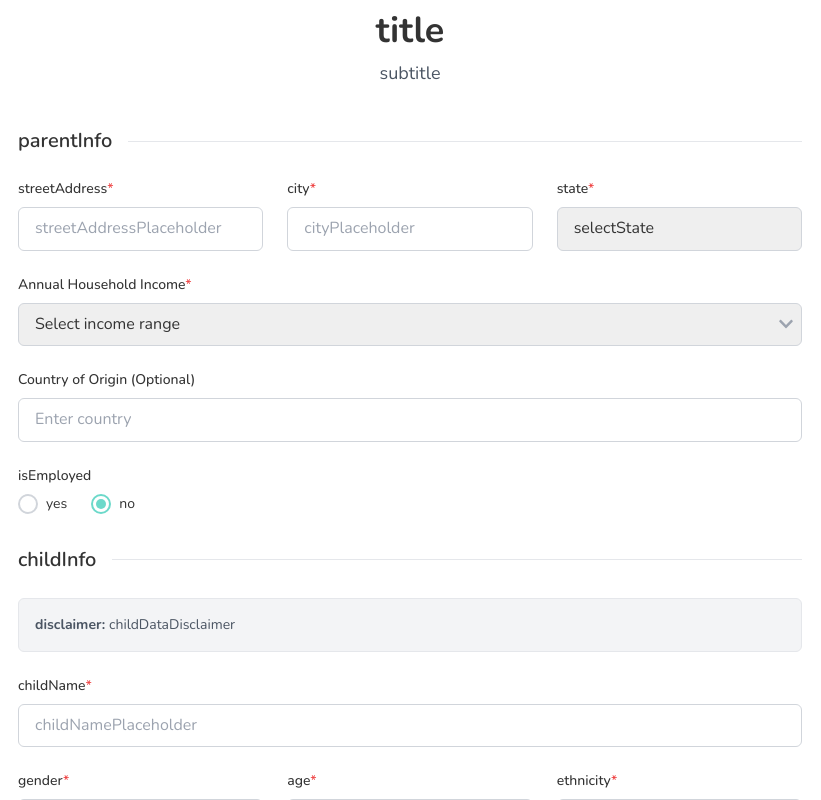
Test: AssessYourCommunity Component › should validate address when all address fields are filled
The width and height of the screenshot is (821, 800).
Fill out address fields
Step 1. Type "123 Main St" into the field labelled "streetAddress*" → point(141, 229), box 18,207 -> 263,251
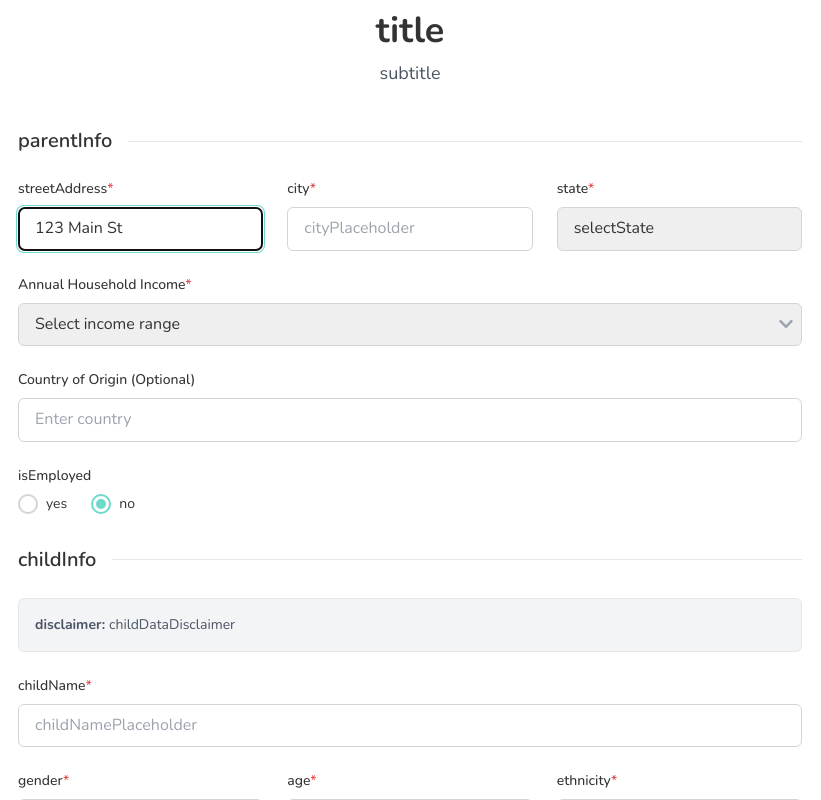
Step 2. Type "Boston" into the field labelled "city*" → point(410, 229), box 287,207 -> 533,251
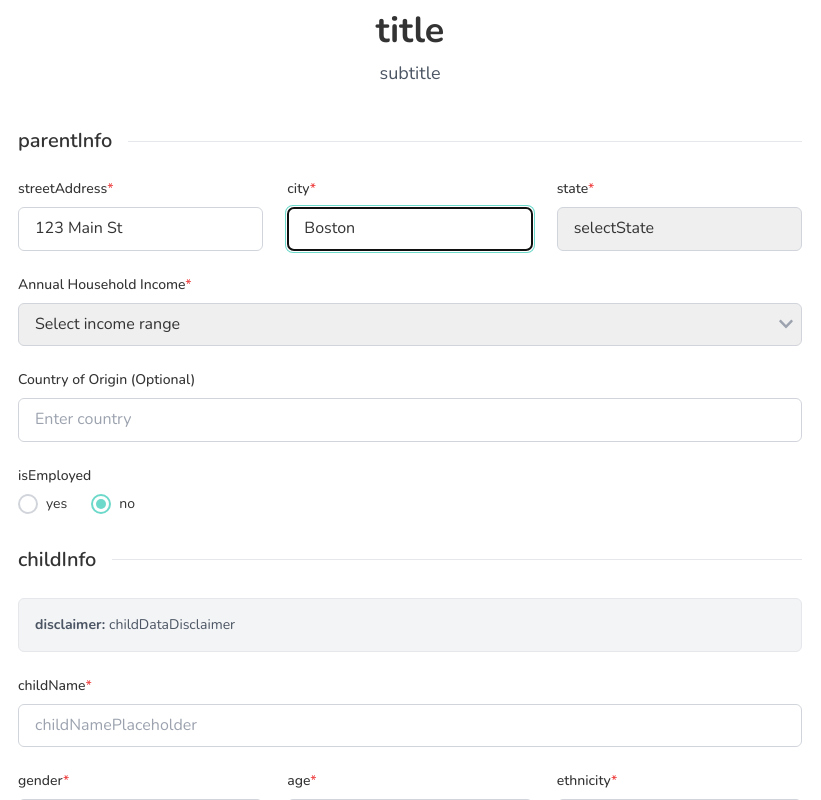
Step 3. Select "Massachusetts" in the dropdown labelled "state*" → point(679, 229), box 557,207 -> 802,251
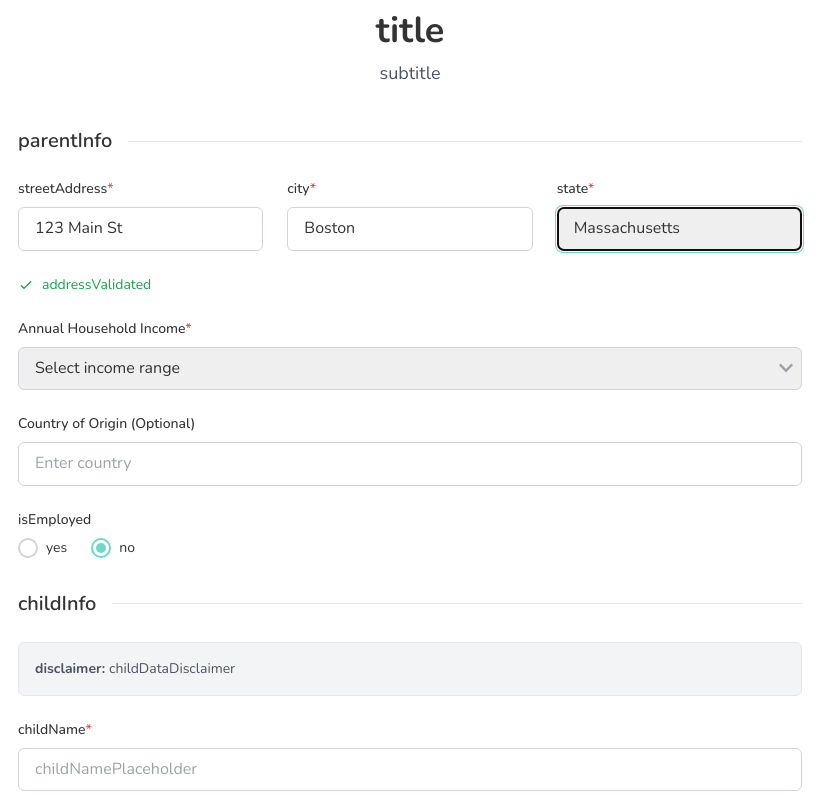
Check: the text "addressValidated" is shown, box 18,275 -> 151,295
